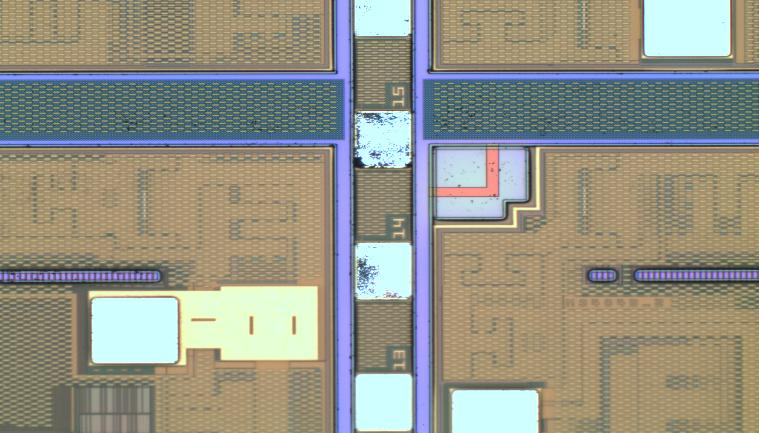PO CONTAMINATION: (356, 113, 526, 301)
